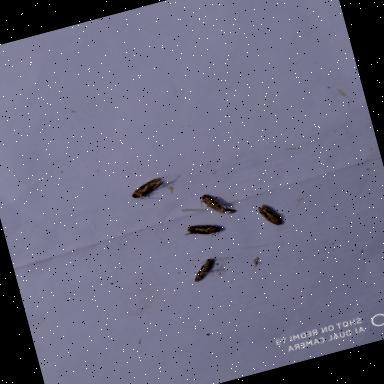pbw: (122, 170, 176, 208), (196, 184, 244, 224), (182, 214, 230, 246), (252, 196, 290, 234), (186, 252, 228, 286)
